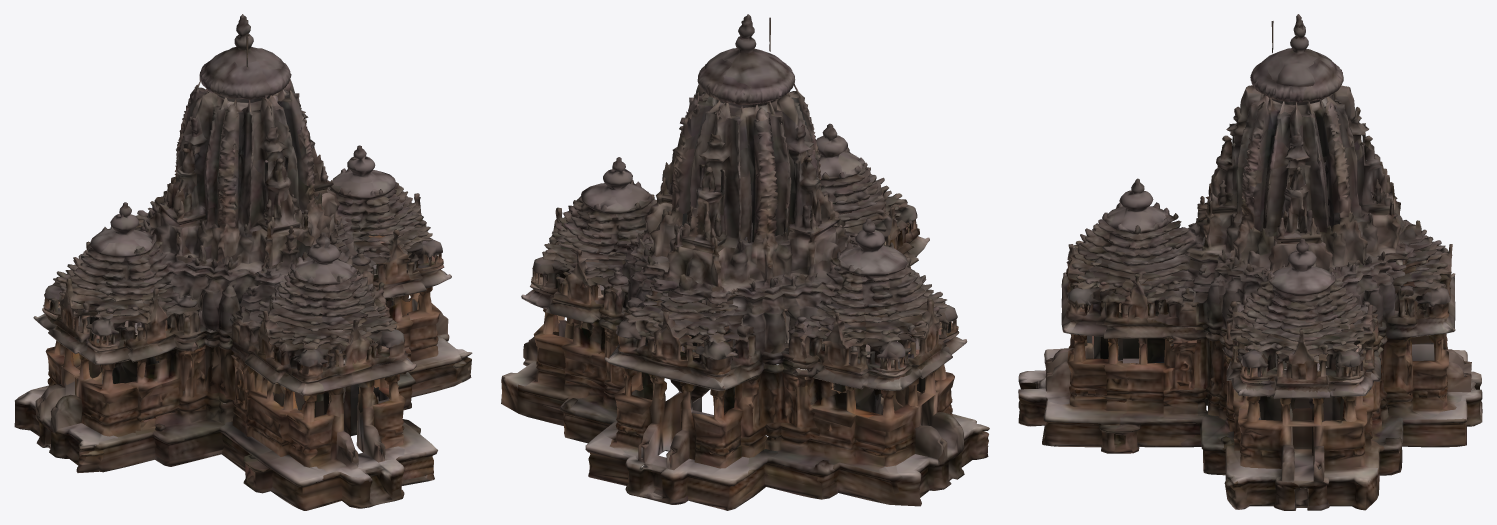
The model's file is lingaraj.glb.
3 renders of one model, left to right at view 1: azimuth 30°, elevation 25°; view 2: azimuth 150°, elevation 25°; view 3: azimuth 270°, elevation 25°, orthographic. The views are drawn at different scales.
Visible parts, largest first — view 1: lingaraj; view 2: lingaraj; view 3: lingaraj.
Boxes of the visible parts, left/top/right/bottom form: lingaraj: left=14, top=14, right=472, bottom=510; lingaraj: left=501, top=14, right=989, bottom=510; lingaraj: left=1018, top=14, right=1482, bottom=510.
Bounding box in the file's own units: 0.9991 × 0.946 × 0.9989.
Materials: 1 (1 with a texture image).
